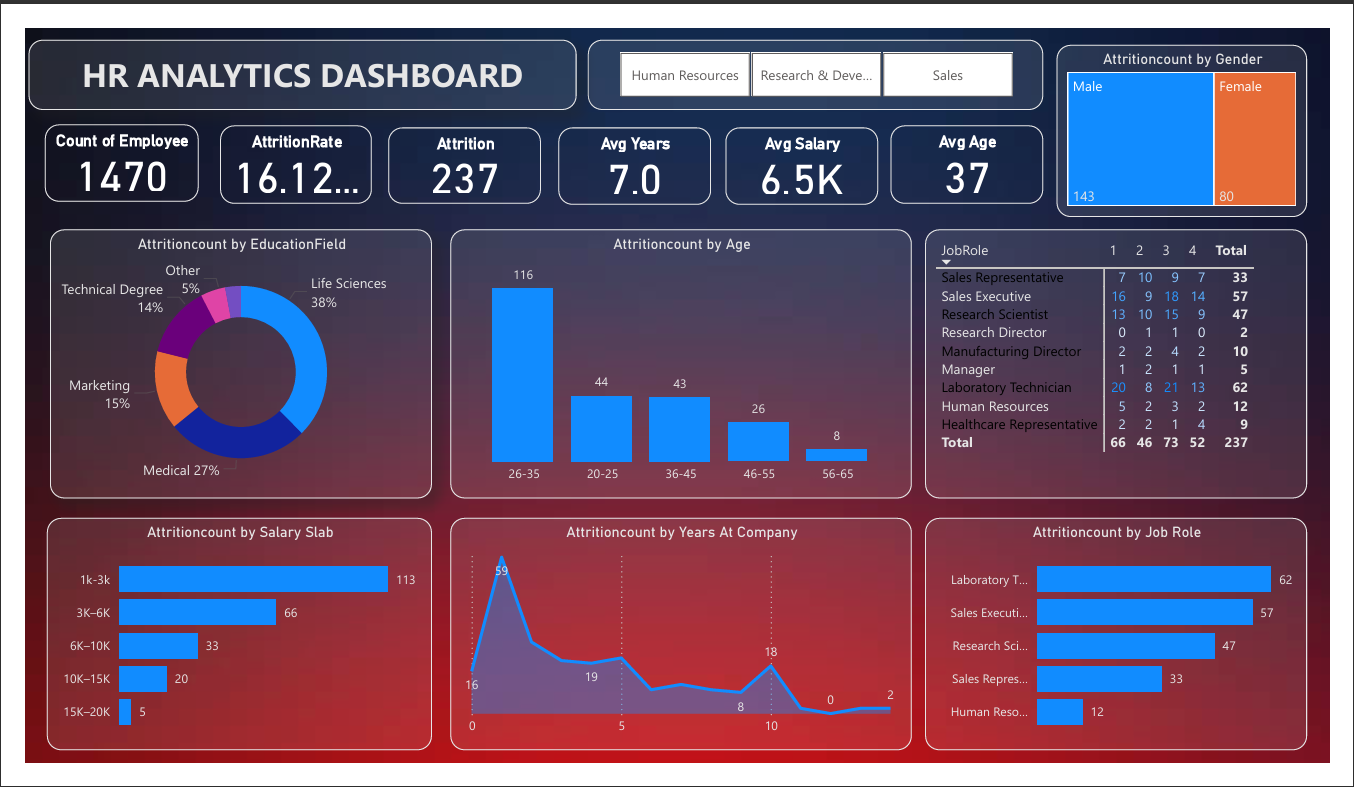

The page's visual inventory and layout, read from the dashboard file:
{"tool":"powerbi","page":{"name":"DashBoard","canvas":[1280,720],"ordinal":0},"visuals":[{"type":"card","title":"Count of Employee","fields":{"Values":["CountNonNull(hr data.EmployeeCount)"]},"box":[18.9,94.4,151.1,75.5],"z":0},{"type":"card","title":"AttritionRate","fields":{"Values":["hr data.AttritionRate"]},"box":[190.9,95.4,149.5,76.3],"z":1000},{"type":"card","title":"Attrition","fields":{"Values":["Sum(hr data.Attritioncount)"]},"box":[356.3,97,149.5,74.8],"z":2000},{"type":"card","title":"Avg Age","fields":{"Values":["Avg(hr data.Age)"]},"box":[849.4,95.4,149.5,76.3],"z":3000},{"type":"card","title":"Avg Years","fields":{"Values":["Avg(hr data.YearsAtCompany)"]},"box":[523.3,97,149.5,76.3],"z":4000},{"type":"card","title":"Avg Salary","fields":{"Values":["Avg(hr data.MonthlyIncome)"]},"box":[687.1,97,149.5,76.3],"z":5000},{"type":"donutChart","title":"Attritioncount by EducationField","fields":{"Category":["hr data.EducationField"],"Y":["Sum(hr data.Attritioncount)"]},"box":[23.9,197.2,375.4,264],"z":6000},{"type":"clusteredColumnChart","title":"Attritioncount by Age","fields":{"Category":["hr data.age_Group"],"Y":["Sum(hr data.Attritioncount)"]},"box":[416.7,197.2,453.3,264],"z":7000},{"type":"pivotTable","title":"Job Satisfaction","fields":{"Rows":["hr data.JobRole"],"Columns":["hr data.JobSatisfaction"],"Values":["Sum(hr data.Attritioncount)"]},"box":[882.8,197.2,375.4,264],"z":8000},{"type":"barChart","title":"Attritioncount by Salary Slab","fields":{"Category":["hr data.SalarySlab"],"Y":["Sum(hr data.Attritioncount)"]},"box":[20.7,480.4,378.6,227.5],"z":9000},{"type":"barChart","title":"Attritioncount by Job Role","fields":{"Category":["hr data.JobRole"],"Y":["Sum(hr data.Attritioncount)"]},"box":[882.8,480.4,375.4,227.5],"z":10000},{"type":"areaChart","title":"Attritioncount by Years At Company","fields":{"Category":["hr data.YearsAtCompany"],"Y":["Sum(hr data.Attritioncount)"]},"box":[416.7,480.4,453.3,227.5],"z":11000},{"type":"treemap","title":"Attritioncount by Gender","fields":{"Group":["hr data.Gender"],"Values":["Sum(hr data.Attritioncount)"]},"box":[1011.6,15.9,246.5,168.6],"z":12000},{"type":"slicer","fields":{"Values":["hr data.Department"]},"box":[551.9,11.1,447,68.4],"z":13000},{"type":"textbox","box":[3.2,11.1,537.6,68.4],"z":14000}]}

Visuals, with their boxes in screenshot pixels (x1, y1, x2, y2):
"Count of Employee" card: {"x1": 34, "y1": 116, "x2": 191, "y2": 195}
"AttritionRate" card: {"x1": 213, "y1": 117, "x2": 369, "y2": 197}
"Attrition" card: {"x1": 386, "y1": 119, "x2": 542, "y2": 197}
"Avg Age" card: {"x1": 900, "y1": 117, "x2": 1056, "y2": 197}
"Avg Years" card: {"x1": 560, "y1": 119, "x2": 716, "y2": 198}
"Avg Salary" card: {"x1": 731, "y1": 119, "x2": 887, "y2": 198}
"Attritioncount by EducationField" donutChart: {"x1": 39, "y1": 223, "x2": 431, "y2": 499}
"Attritioncount by Age" clusteredColumnChart: {"x1": 449, "y1": 223, "x2": 922, "y2": 499}
"Job Satisfaction" pivotTable: {"x1": 935, "y1": 223, "x2": 1327, "y2": 499}
"Attritioncount by Salary Slab" barChart: {"x1": 36, "y1": 519, "x2": 431, "y2": 756}
"Attritioncount by Job Role" barChart: {"x1": 935, "y1": 519, "x2": 1327, "y2": 756}
"Attritioncount by Years At Company" areaChart: {"x1": 449, "y1": 519, "x2": 922, "y2": 756}
"Attritioncount by Gender" treemap: {"x1": 1069, "y1": 34, "x2": 1327, "y2": 210}
slicer - hr data.Department: {"x1": 590, "y1": 29, "x2": 1056, "y2": 101}
textbox: {"x1": 17, "y1": 29, "x2": 578, "y2": 101}
